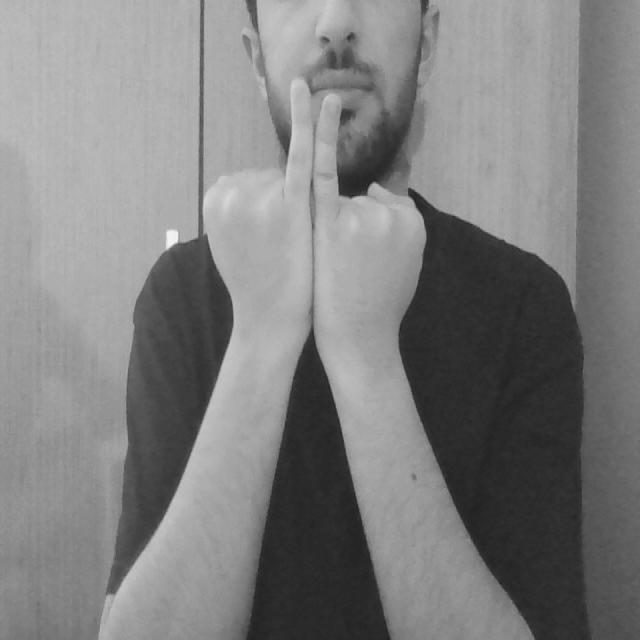Kardes: (197, 68, 435, 374)
